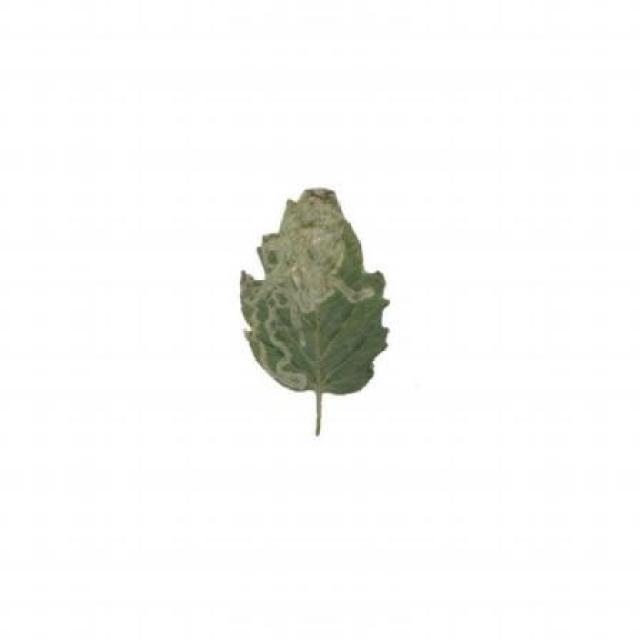Leaf Miner: (235, 186, 392, 396)
